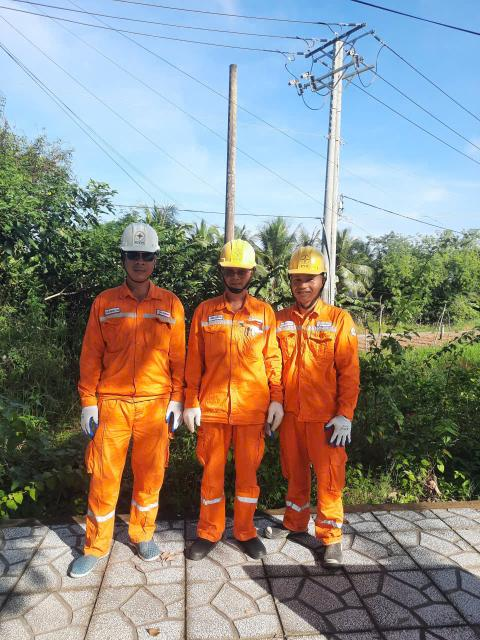gloves: (322, 409, 360, 451), (155, 396, 184, 434), (73, 407, 107, 439), (262, 400, 289, 439), (177, 399, 205, 435)
helmet: (283, 234, 333, 281), (109, 219, 169, 258), (216, 231, 262, 277)
shoes: (255, 513, 311, 542), (62, 550, 115, 580), (185, 525, 225, 561), (231, 524, 271, 558), (127, 529, 162, 564), (321, 532, 348, 571)
